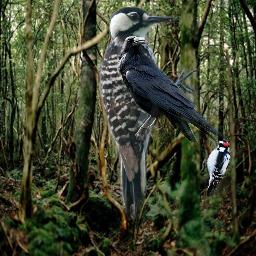Crow: (117, 35, 229, 142)
Woodpecker: (95, 5, 203, 220), (203, 140, 232, 197)
